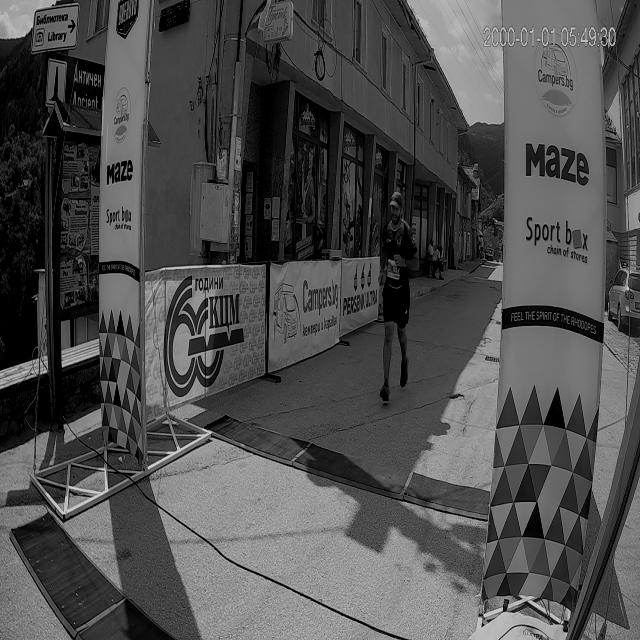runner: (371, 167, 423, 414)
